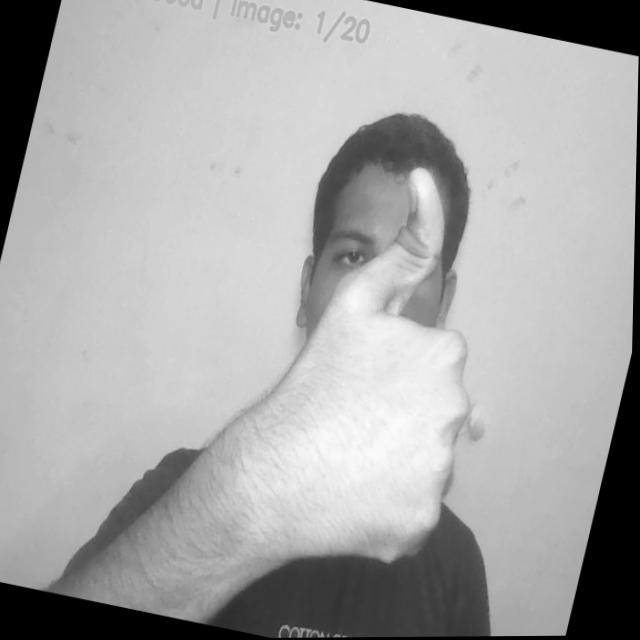Good: (233, 149, 533, 602)
